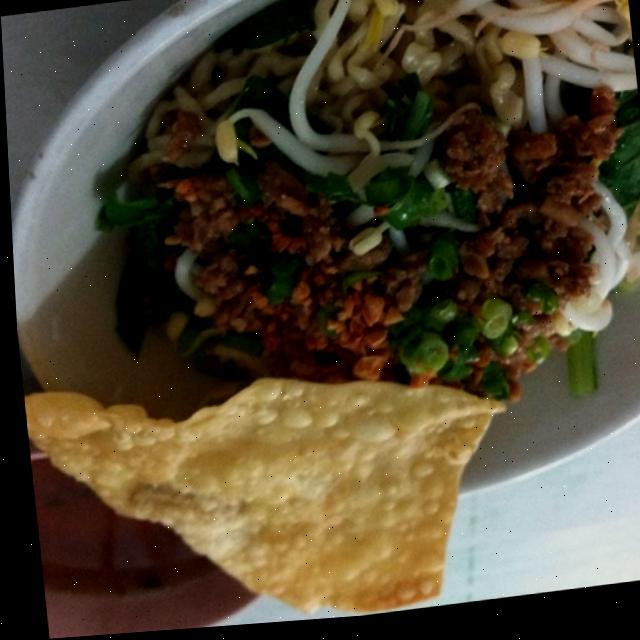面条主食: (30, 0, 640, 598)
